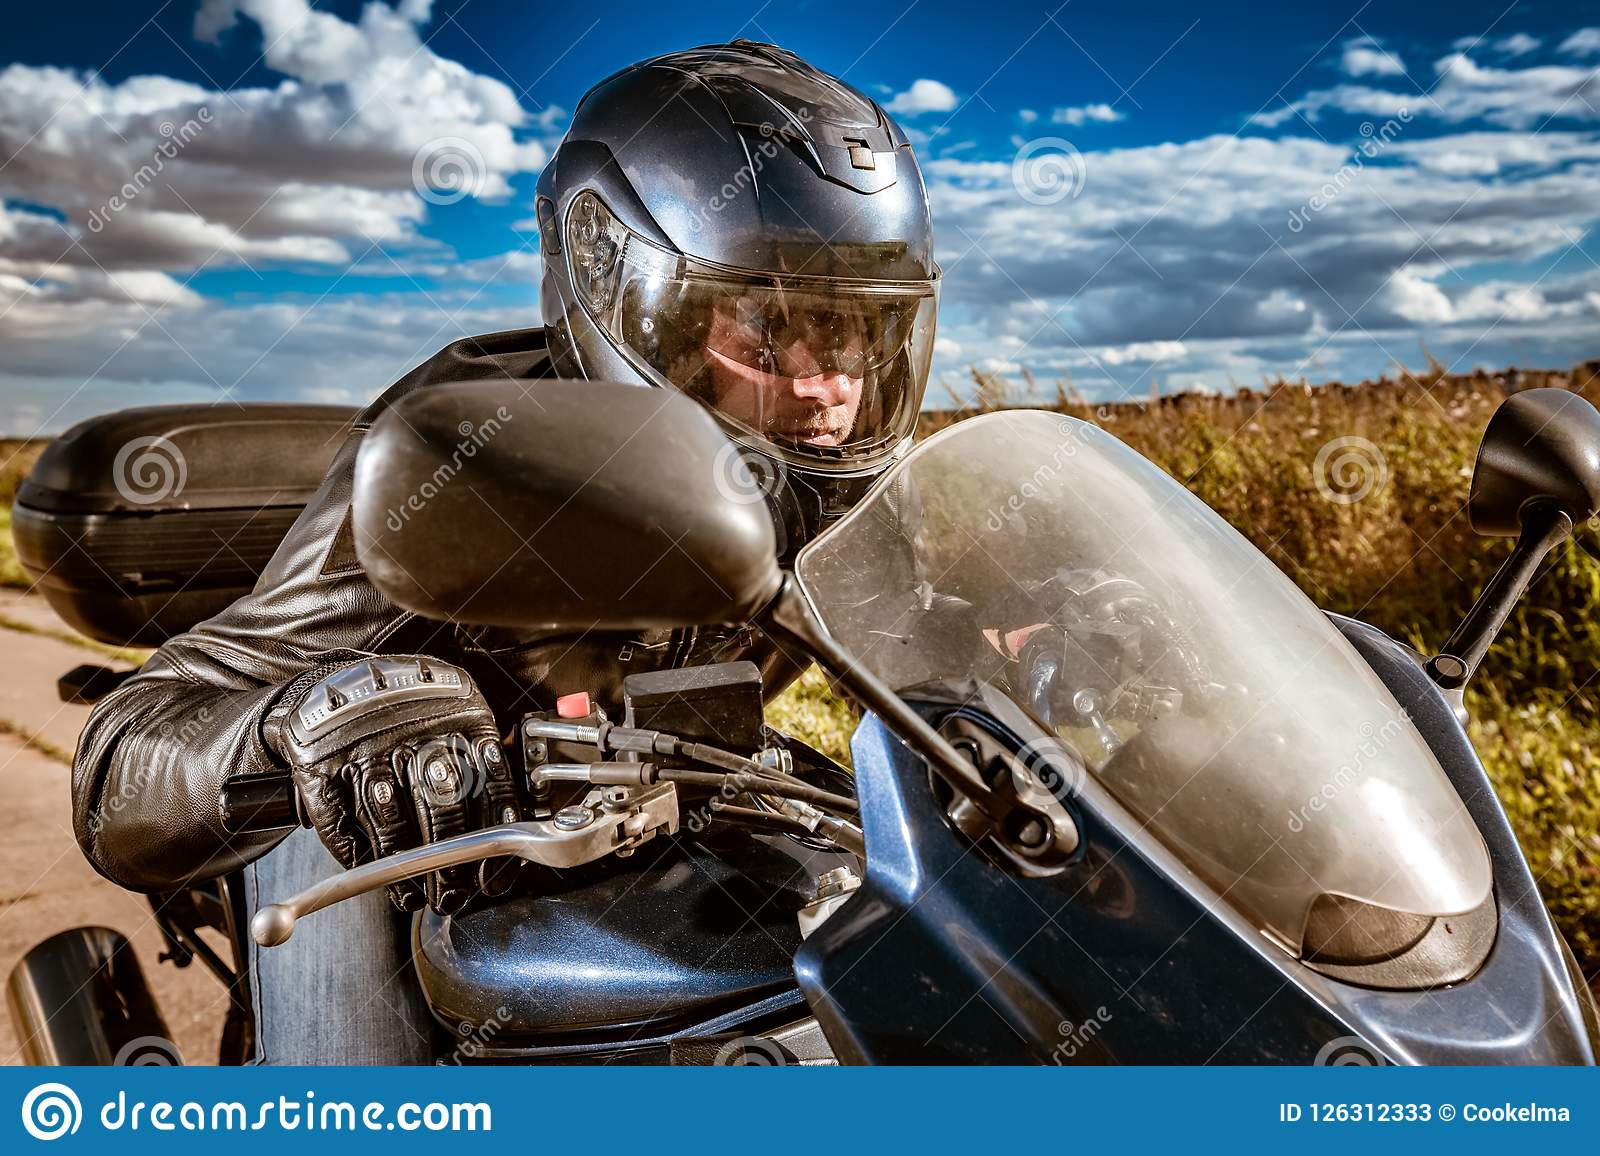helmet: (527, 57, 959, 526)
